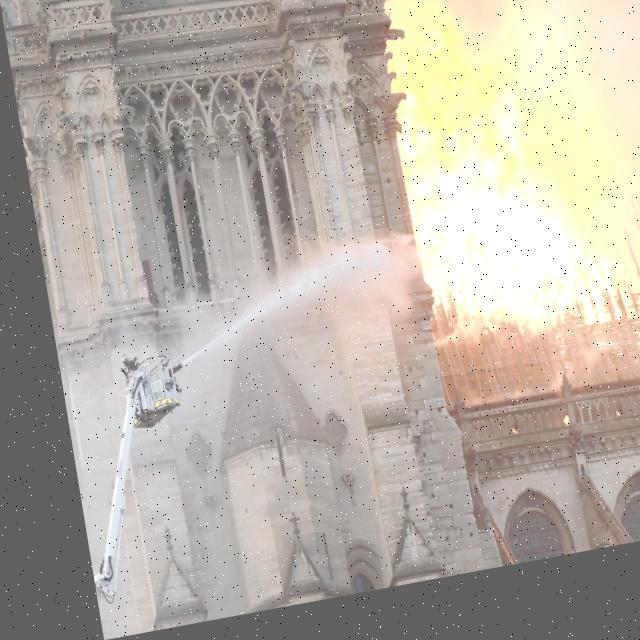Fire: (366, 0, 639, 394)
